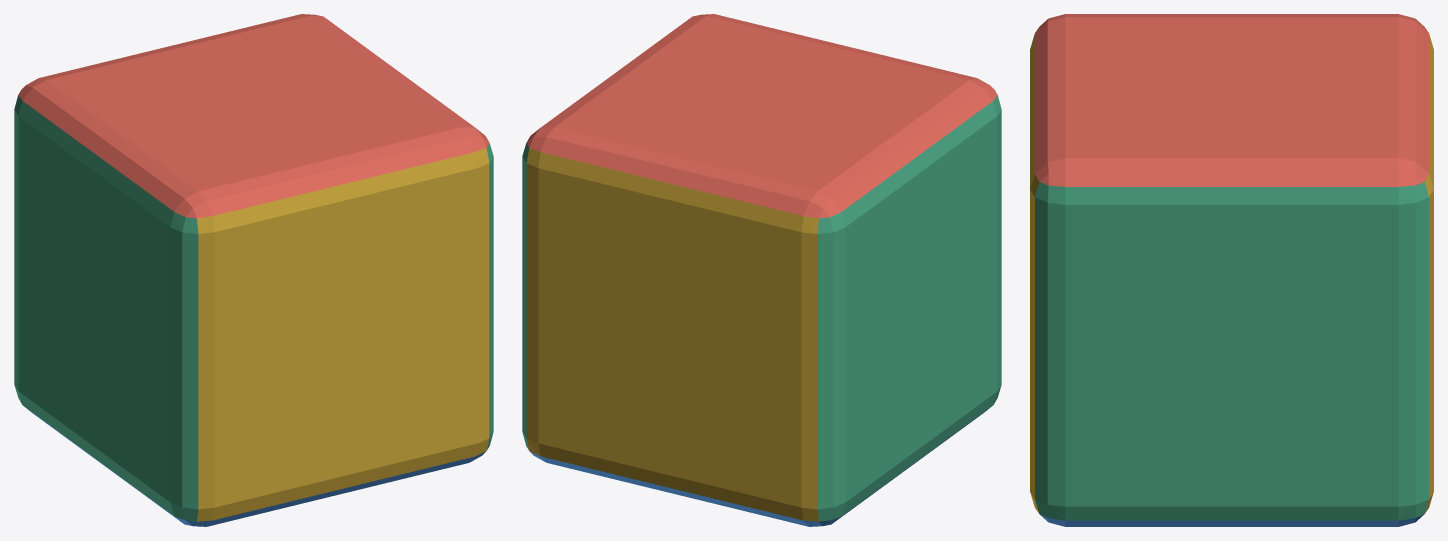
File: proof_cube.fbx
3 renders of one model, left to right at view 1: azimuth 30°, elevation 25°; view 2: azimuth 150°, elevation 25°; view 3: azimuth 270°, elevation 25°, orthographic. The views are drawn at different scales.
Parts seen in each view (by area): view 1: ProofCube; view 2: ProofCube; view 3: ProofCube.
Boxes of the visible parts, x1,y1,x2,y2 form: ProofCube: (14,14,493,526); ProofCube: (522,14,1001,526); ProofCube: (1030,14,1433,526).
Bounding box in the file's own units: 4 × 4 × 4.
